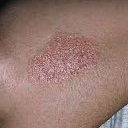Psoriasis: (29, 32, 91, 82)
